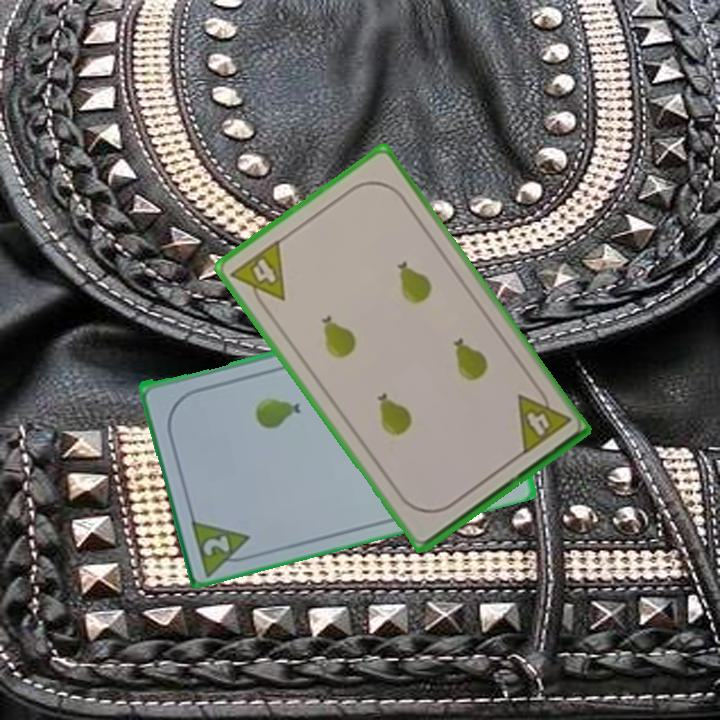2p: (199, 531, 233, 558)
4p: (226, 236, 289, 315), (513, 381, 574, 458)
